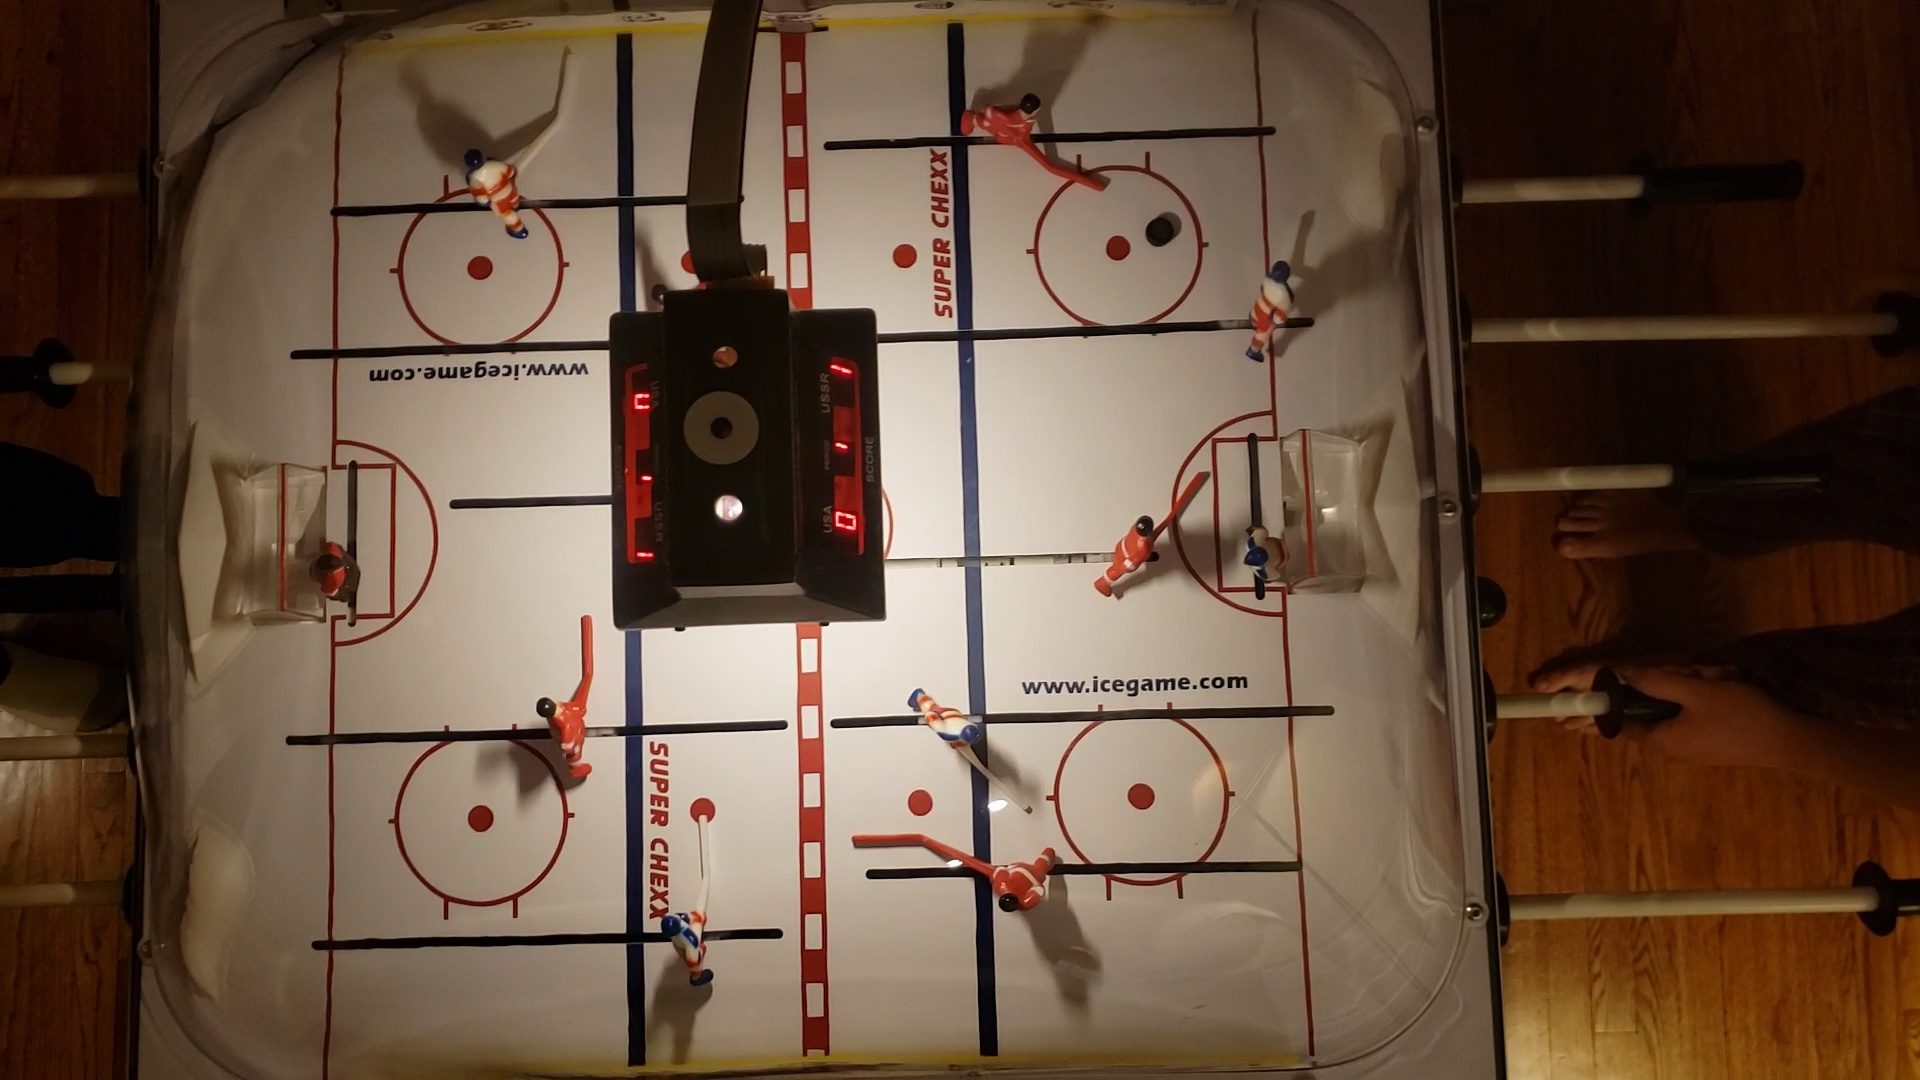puck: (1145, 218, 1174, 245)
